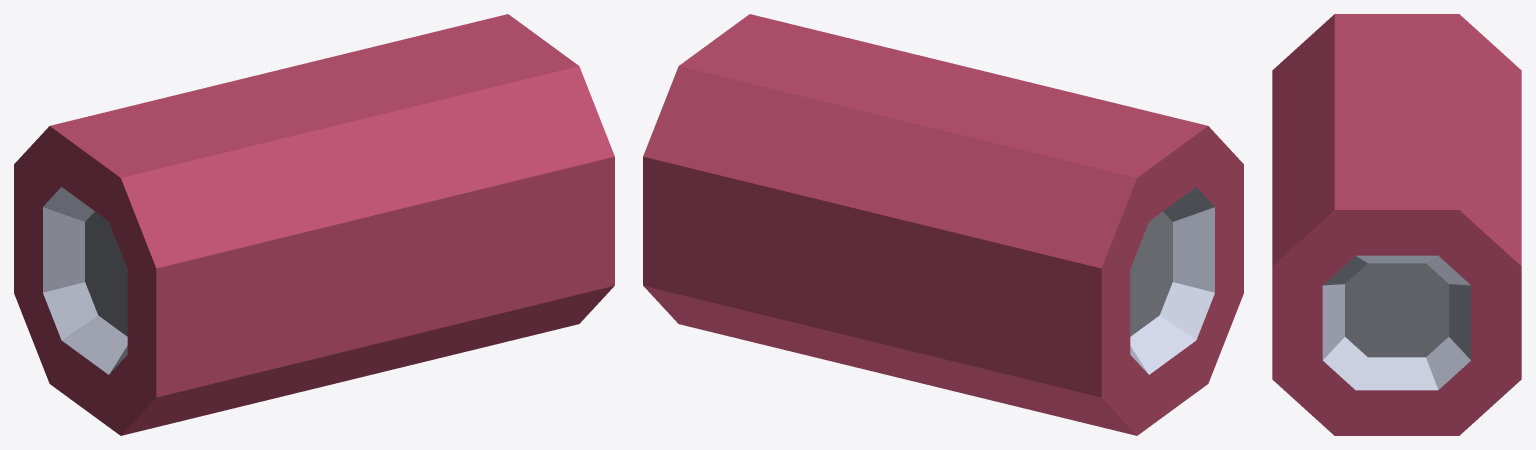
The picture shows the model from 3 angles, left to right: view 1: azimuth 30°, elevation 25°; view 2: azimuth 150°, elevation 25°; view 3: azimuth 270°, elevation 25°; orthographic projection. The views are drawn at different scales.
Parts seen in each view (by area): view 1: object_064; view 2: object_064; view 3: object_064.
Part boxes in pixels (box(x1,y1,x2,y2)): object_064: box(14, 14, 614, 435); object_064: box(643, 14, 1243, 435); object_064: box(1272, 14, 1521, 435).
Size of the model in its own units: 4.65 by 2.5 by 2.5.
